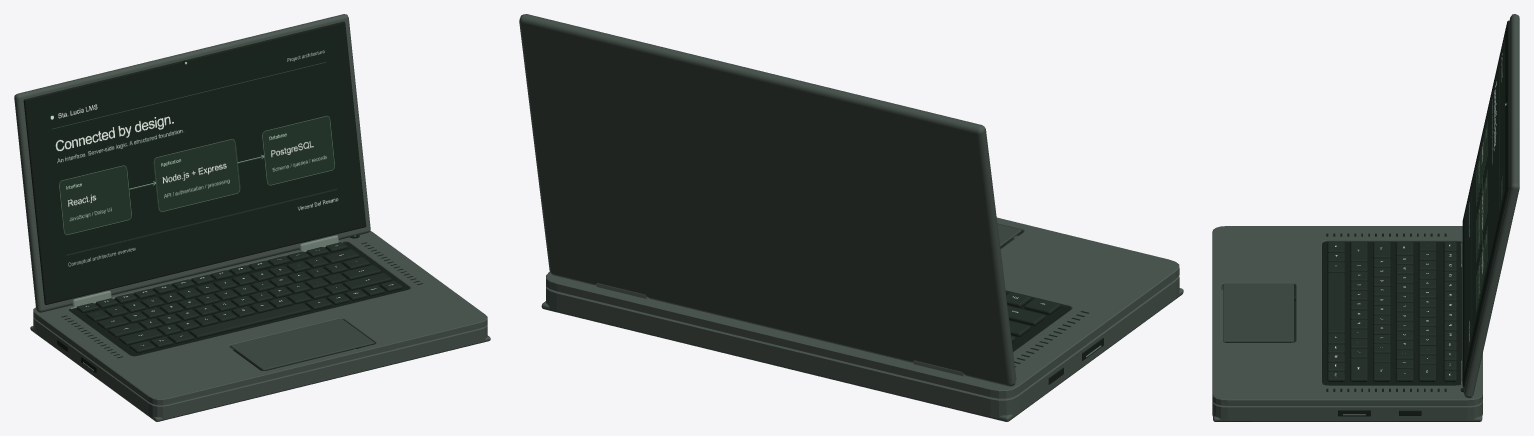
Rendered from project-laptop-f1036a065a.glb.
3 renders of one model, left to right at view 1: azimuth 30°, elevation 25°; view 2: azimuth 150°, elevation 25°; view 3: azimuth 270°, elevation 25°, orthographic. The views are drawn at different scales.
Visible parts, largest first — view 1: Display assembly surfaces, Keyboard and trackpad deck surfaces, Lower chassis and internals surfaces; view 2: Display assembly surfaces, Keyboard and trackpad deck surfaces, Lower chassis and internals surfaces; view 3: Keyboard and trackpad deck surfaces, Display assembly surfaces, Lower chassis and internals surfaces.
Part boxes in pixels (box(x1,y1,x2,y2)): Display assembly surfaces: box(14, 14, 370, 312); Keyboard and trackpad deck surfaces: box(33, 231, 487, 405); Lower chassis and internals surfaces: box(30, 242, 490, 421); Display assembly surfaces: box(519, 14, 1016, 386); Keyboard and trackpad deck surfaces: box(546, 217, 1179, 398); Lower chassis and internals surfaces: box(541, 235, 1183, 421); Keyboard and trackpad deck surfaces: box(1212, 226, 1482, 405); Display assembly surfaces: box(1461, 14, 1519, 397); Lower chassis and internals surfaces: box(1212, 243, 1482, 421).
Bounding box in the file's own units: 3.63 × 2.33 × 2.7.
Materials: 13 (2 with a texture image).
